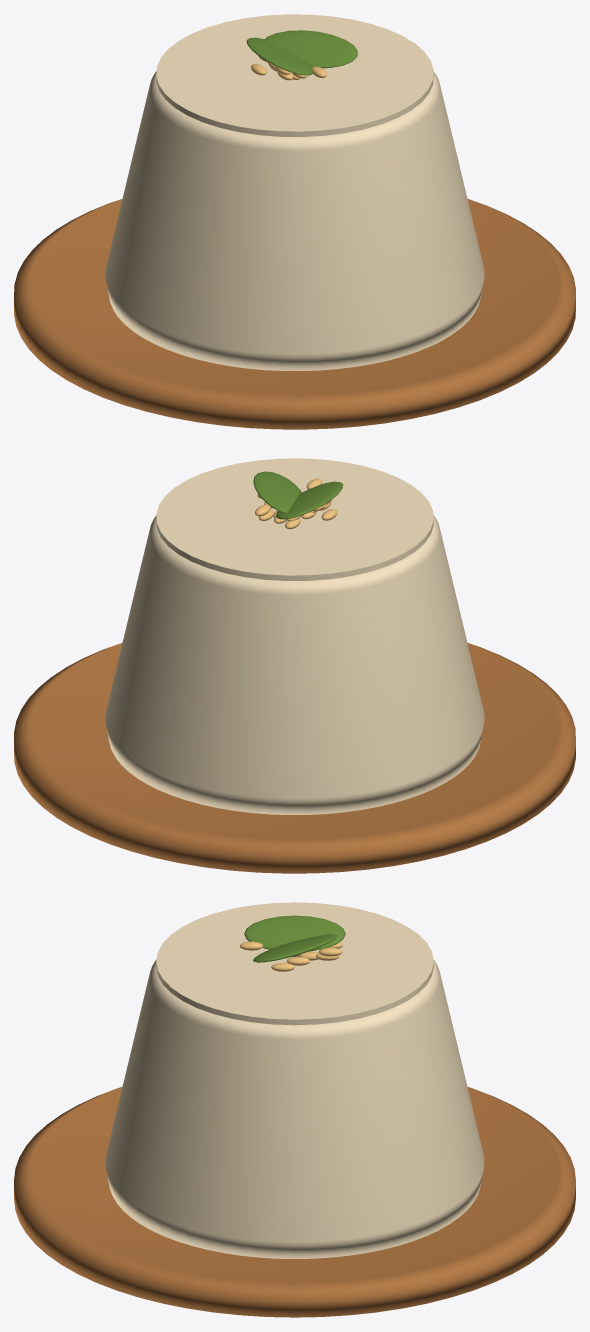
File: 42-soy-pudding.glb
The picture shows the model from 3 angles, top to bottom: view 1: azimuth 30°, elevation 25°; view 2: azimuth 150°, elevation 25°; view 3: azimuth 270°, elevation 25°; orthographic projection.
Parts seen in each view (by area): view 1: 두유 푸딩; view 2: 두유 푸딩; view 3: 두유 푸딩.
Part boxes in pixels (bbox=[...]): 두유 푸딩: bbox=[14, 14, 575, 429]; 두유 푸딩: bbox=[14, 458, 575, 873]; 두유 푸딩: bbox=[14, 902, 575, 1317].
Bounding box in the file's own units: 1.66 × 0.9262 × 1.66.
